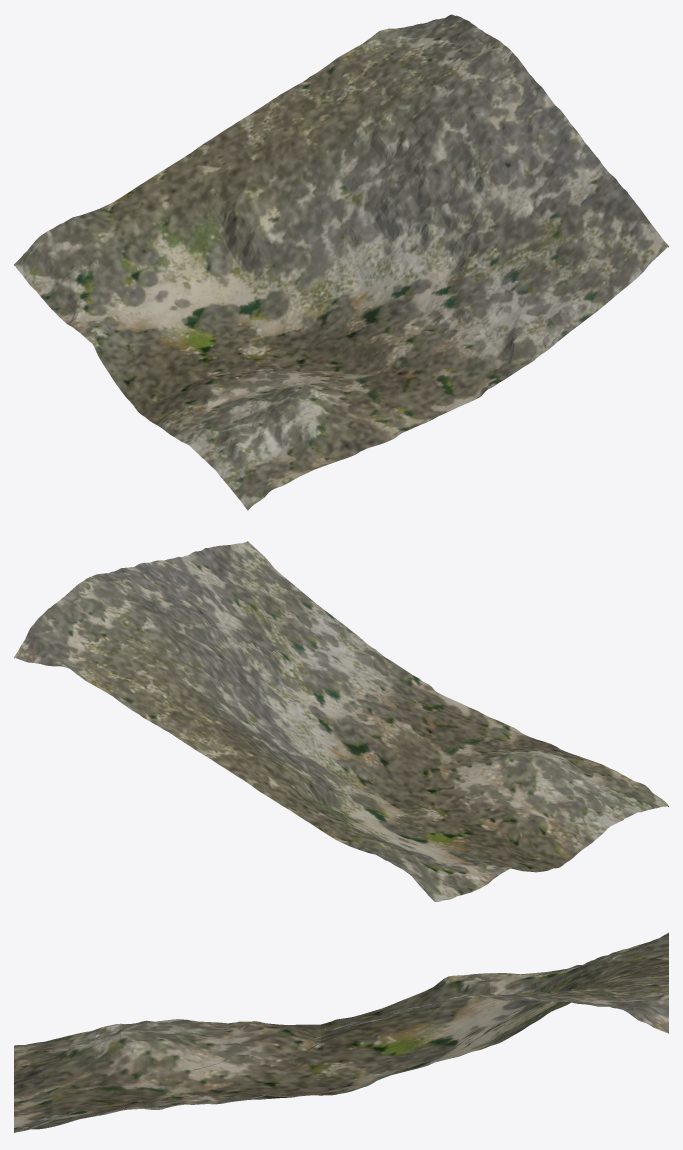
3 views of the same model, one above another, from view 1: azimuth 30°, elevation 25°; view 2: azimuth 150°, elevation 25°; view 3: azimuth 270°, elevation 25° (orthographic). The views are drawn at different scales.
Bounding box in the file's own units: 250 × 139 × 241.
Materials: 1 (1 with a texture image).
